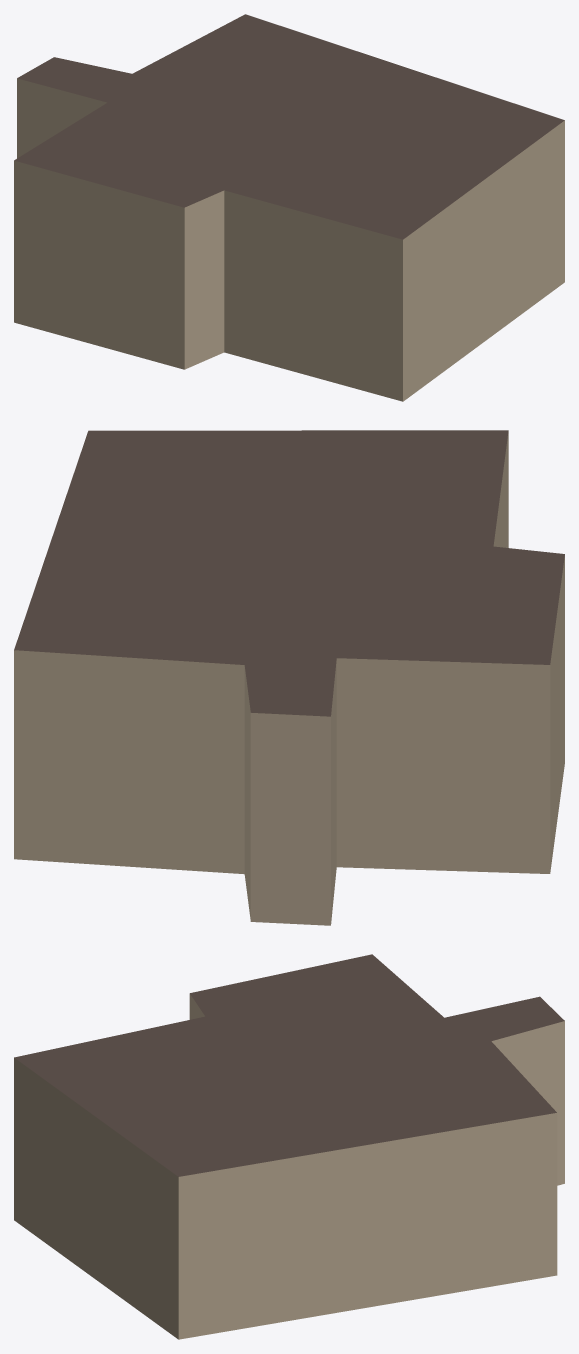
3 renders of one model, top to bottom at view 1: azimuth 30°, elevation 25°; view 2: azimuth 150°, elevation 25°; view 3: azimuth 270°, elevation 25°, orthographic. The views are drawn at different scales.
Visible parts, largest first — view 1: HP-w1516161956; view 2: HP-w1516161956; view 3: HP-w1516161956.
Part boxes in pixels (<box>): HP-w1516161956: <box>14,14,564,401</box>; HP-w1516161956: <box>14,430,564,925</box>; HP-w1516161956: <box>14,954,564,1339</box>.
Bounding box in the file's own units: 26.41 × 9 × 27.62.
